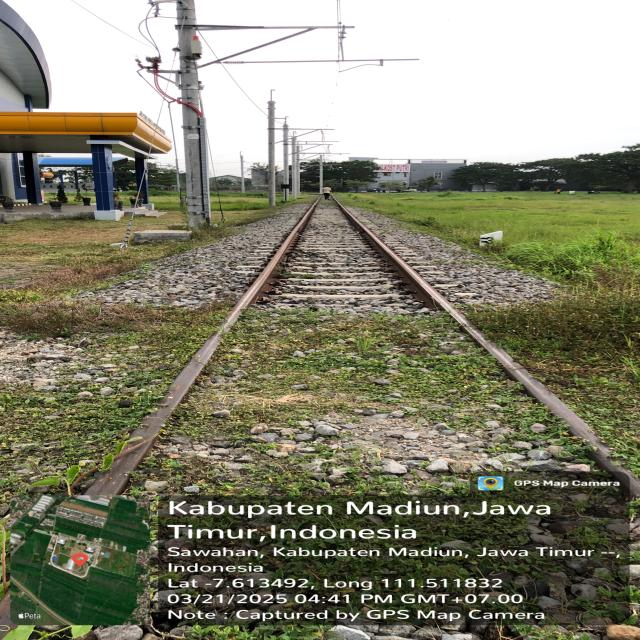rail-detection: (330, 196, 640, 497), (89, 200, 317, 495)
